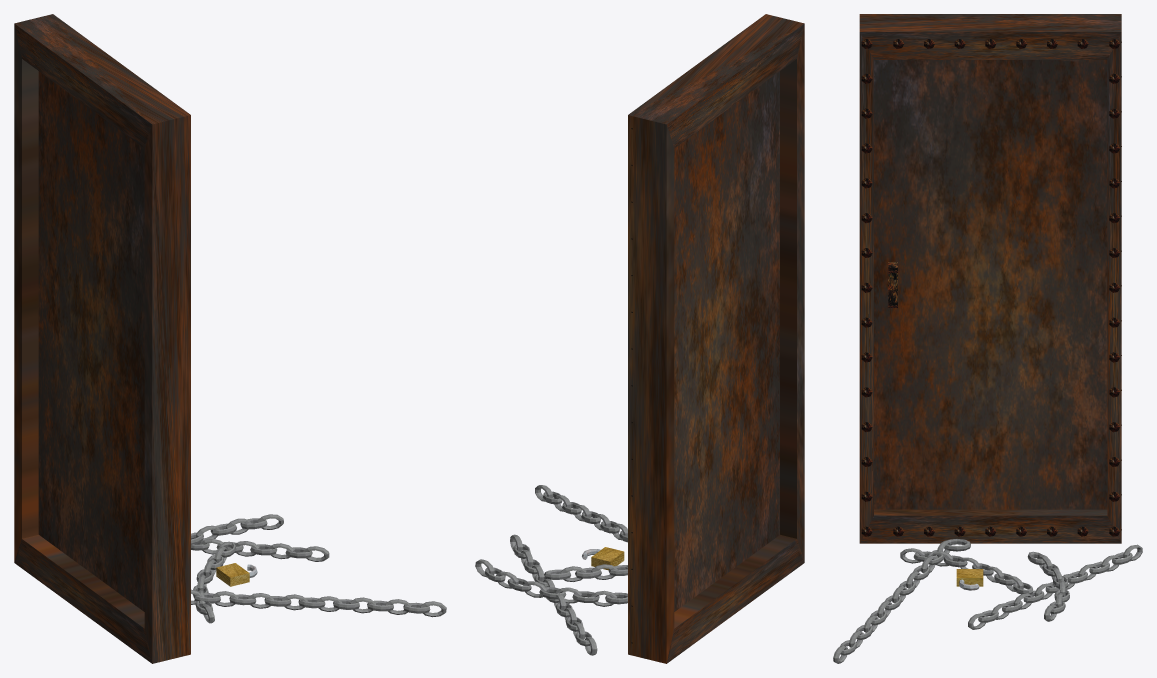
Rendered from RustedDoorsChainedOpened.obj.
3 views of the same model, side by side, from view 1: azimuth 30°, elevation 25°; view 2: azimuth 150°, elevation 25°; view 3: azimuth 270°, elevation 25° (orthographic). The views are drawn at different scales.
Visible parts, largest first — view 1: Cube; view 2: Cube, Cube.004; view 3: Cube.
Boxes of the visible parts, <box> form: Cube: <box>14,14,190,663</box>; Cube: <box>628,14,804,663</box>; Cube.004: <box>591,547,624,570</box>; Cube: <box>859,14,1121,543</box>.
Size of the model in its own units: 4.01 by 7.5 by 4.03.
